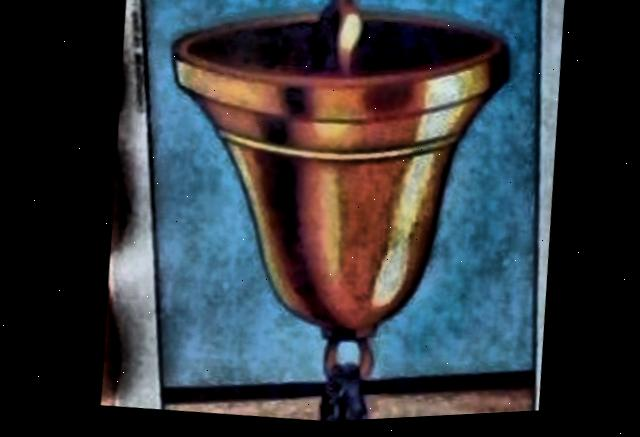La Campana: (144, 0, 540, 425)
